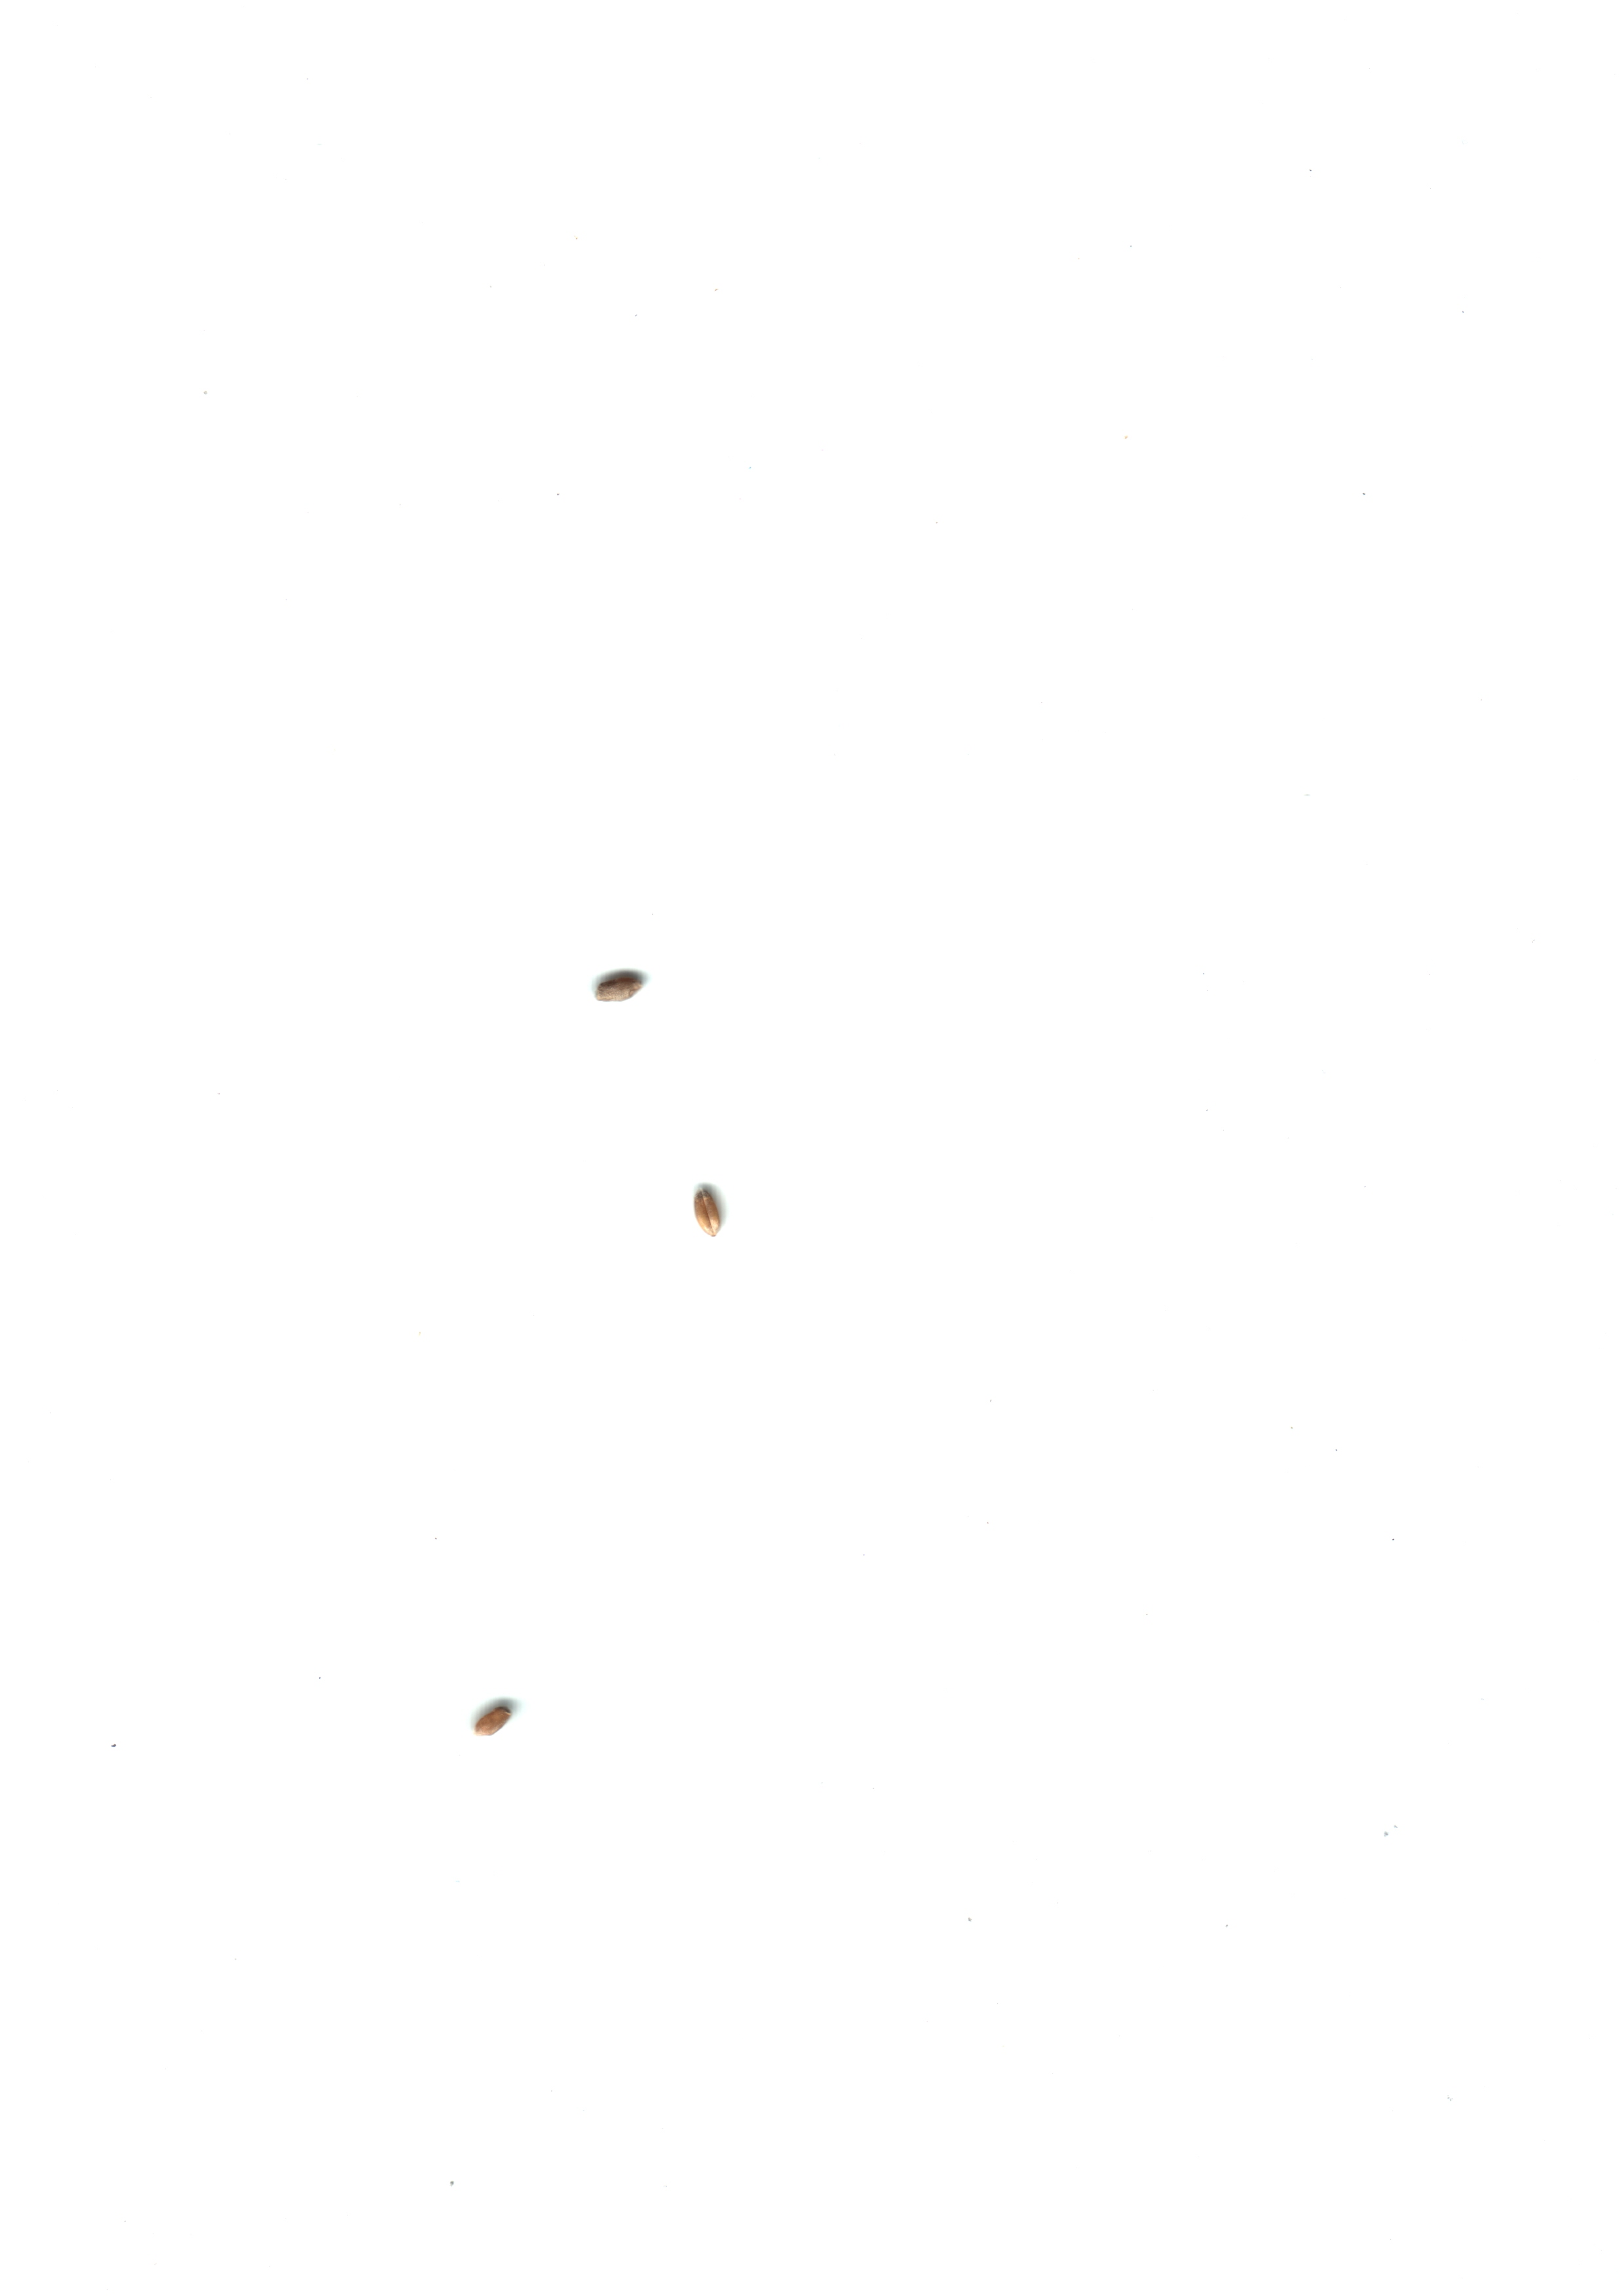grains_3mm: (666, 1171, 760, 1258), (452, 1669, 547, 1754), (573, 948, 668, 1034)
